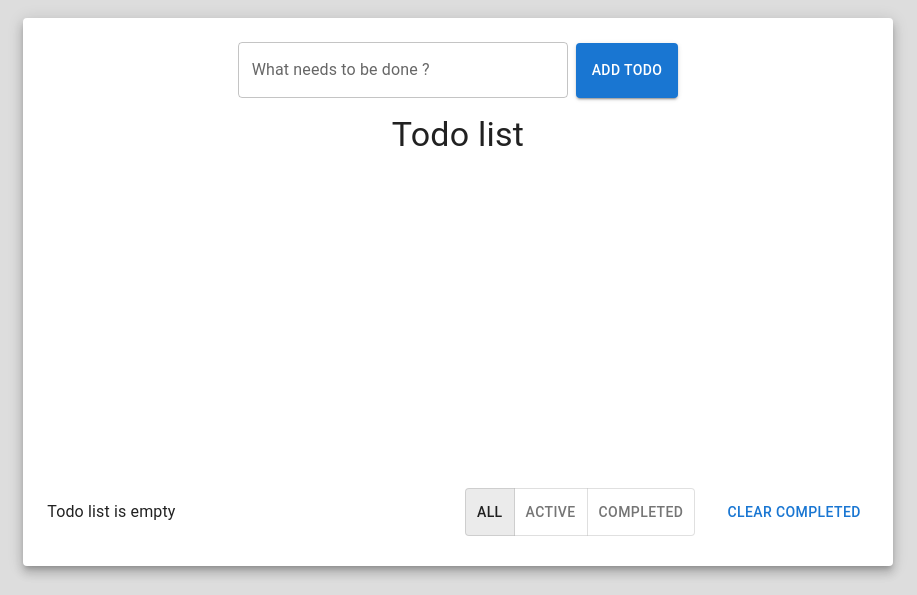
Scenario: Todos tests › push todo item
Expected: the text "Todo list is empty" is shown, x1=47 y1=502 x2=176 y2=521
In the field labelled "What needs to be done ?": (403, 70) x1=238 y1=42 x2=568 y2=98, type "write test"
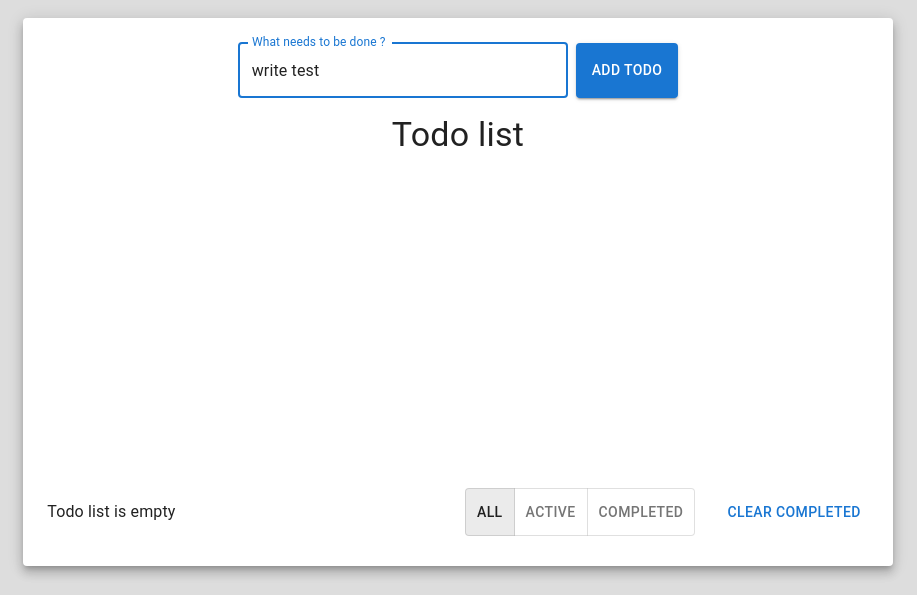
Click the button "Add Todo": (627, 70) x1=576 y1=42 x2=678 y2=98
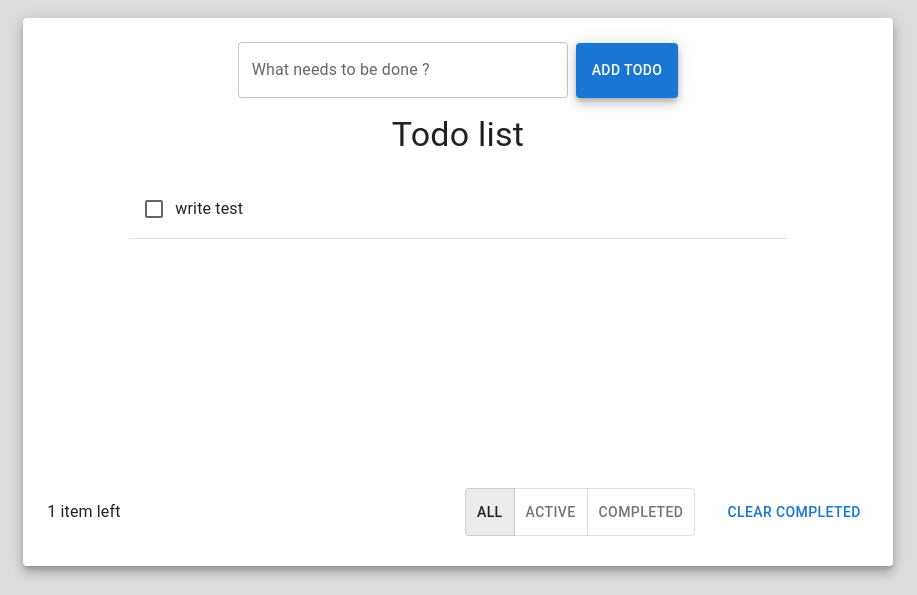
Now the field labelled "What needs to be done ?" is empty, box x1=238 y1=42 x2=568 y2=98
Now the text "Todo list is empty" is gone
Now the text "1 item left" is shown, box x1=47 y1=502 x2=121 y2=521
